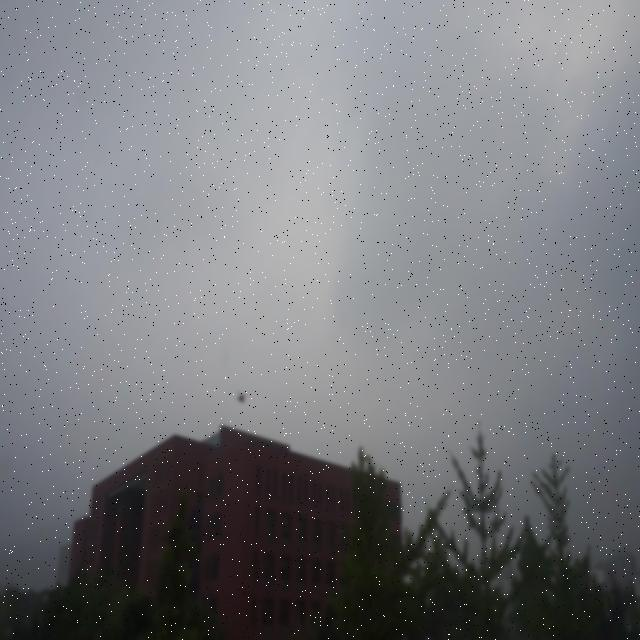UAV: (235, 391, 248, 404)
